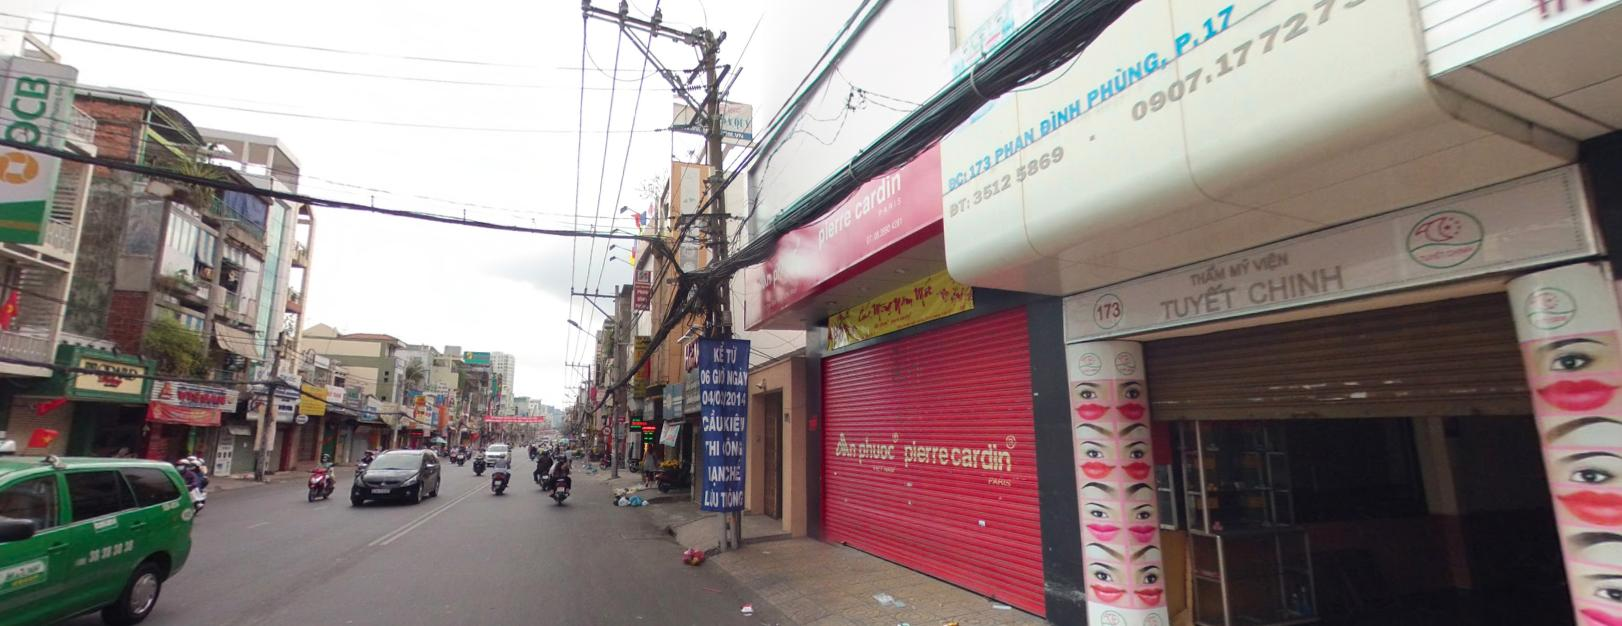Cam con lai: (601, 424, 611, 433)
